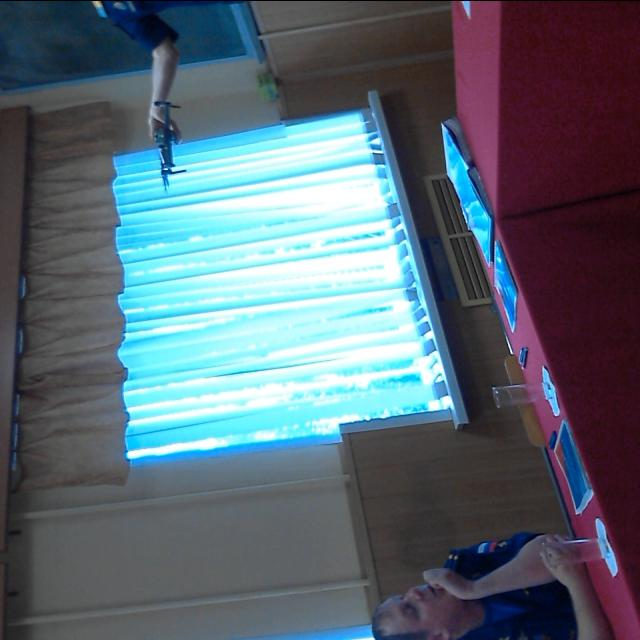drone: (134, 77, 192, 195)
